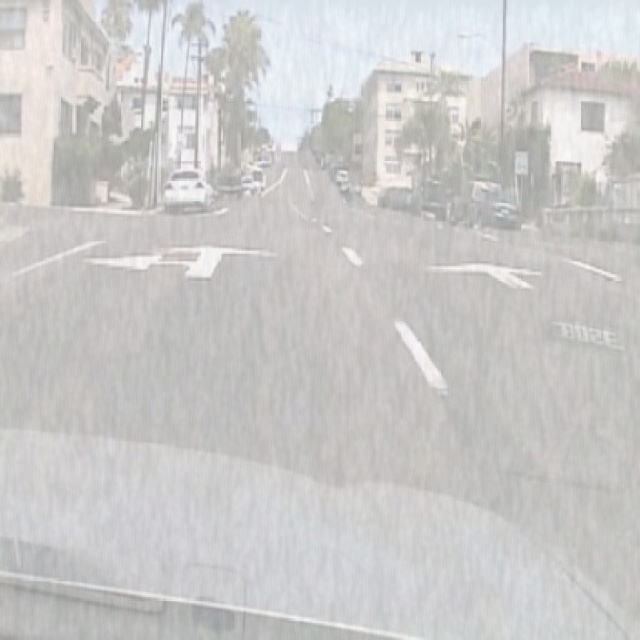speedLimitUrdbl: (514, 149, 528, 176)
